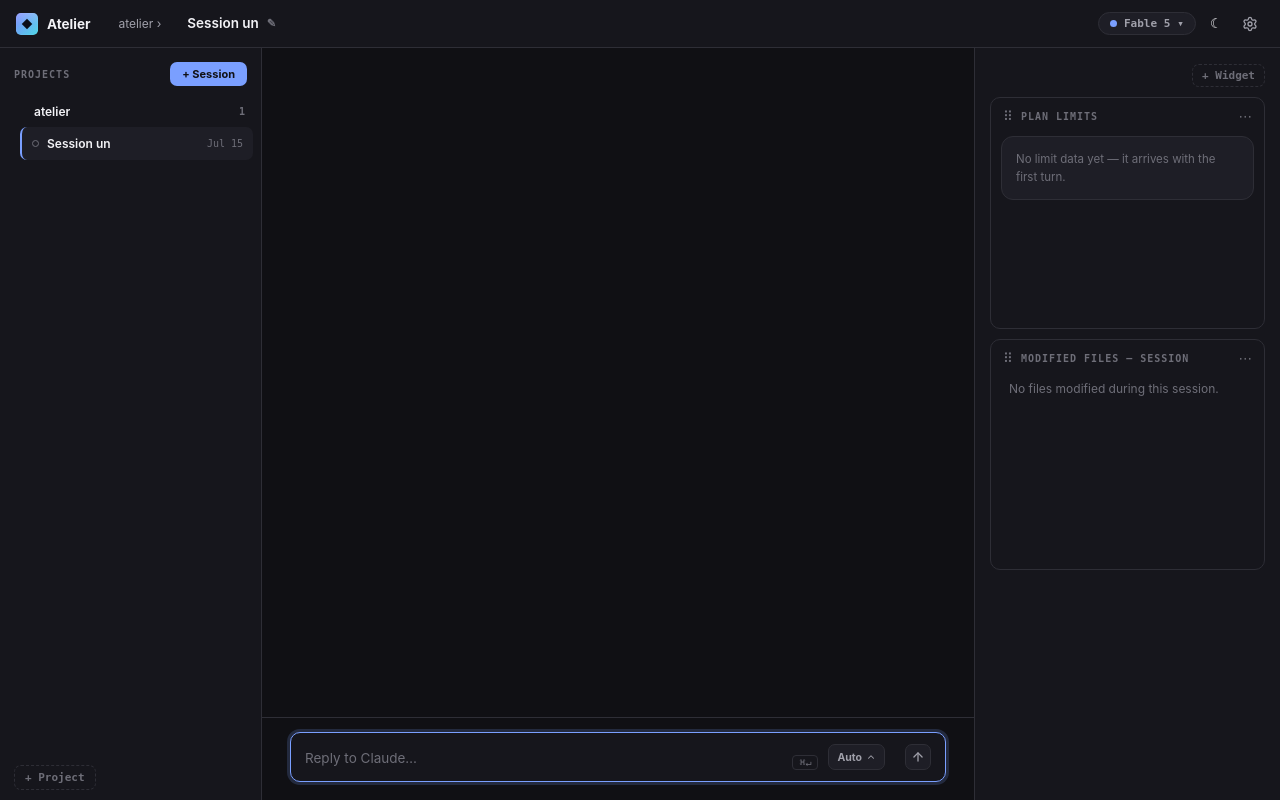
App failure surfacing › a failed rename surfaces a dismissible notice
Note: s1 is auto-opened by the launch restore
Click the button with aria-label "rename the session". click: (232, 23)
box: x1=187 y1=15 x2=276 y2=31
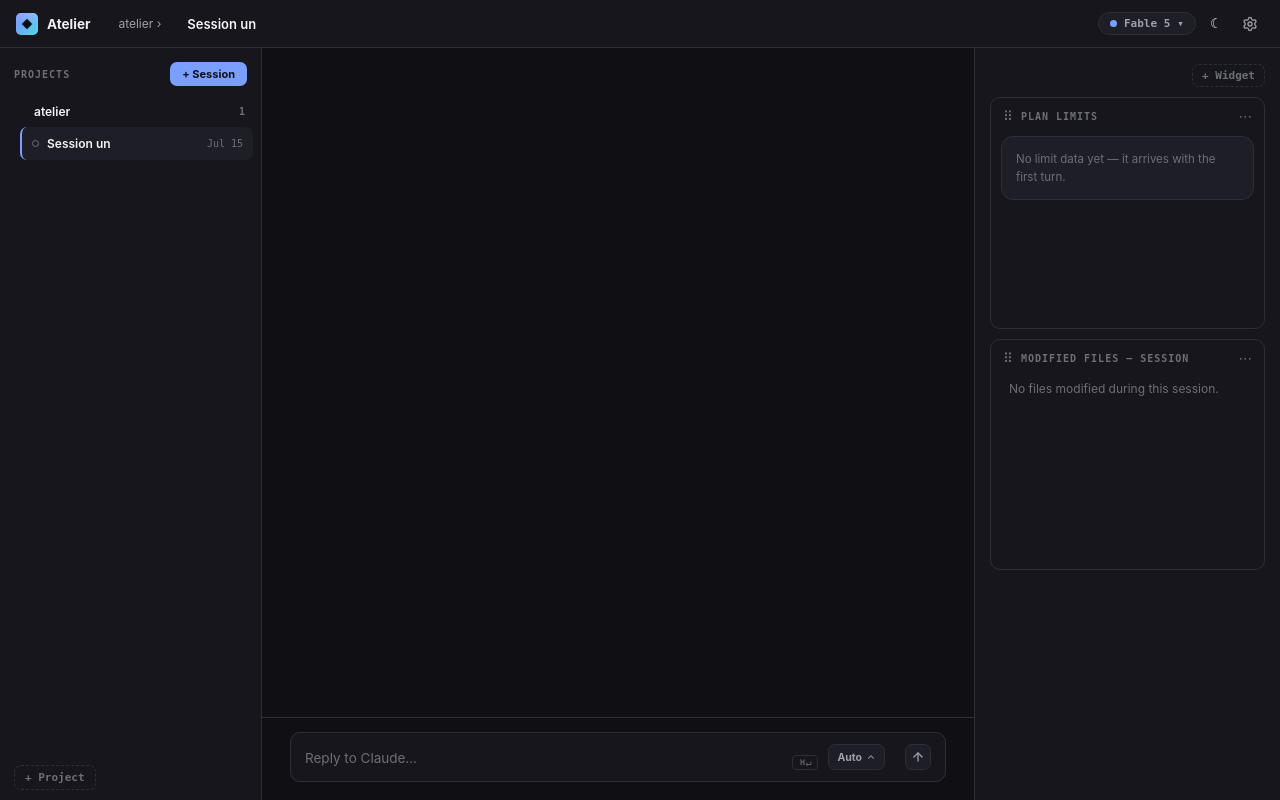
Replace the text in the field named "Rename the session" with "Nouveau nom". click: (297, 24)
box: x1=187 y1=16 x2=407 y2=32
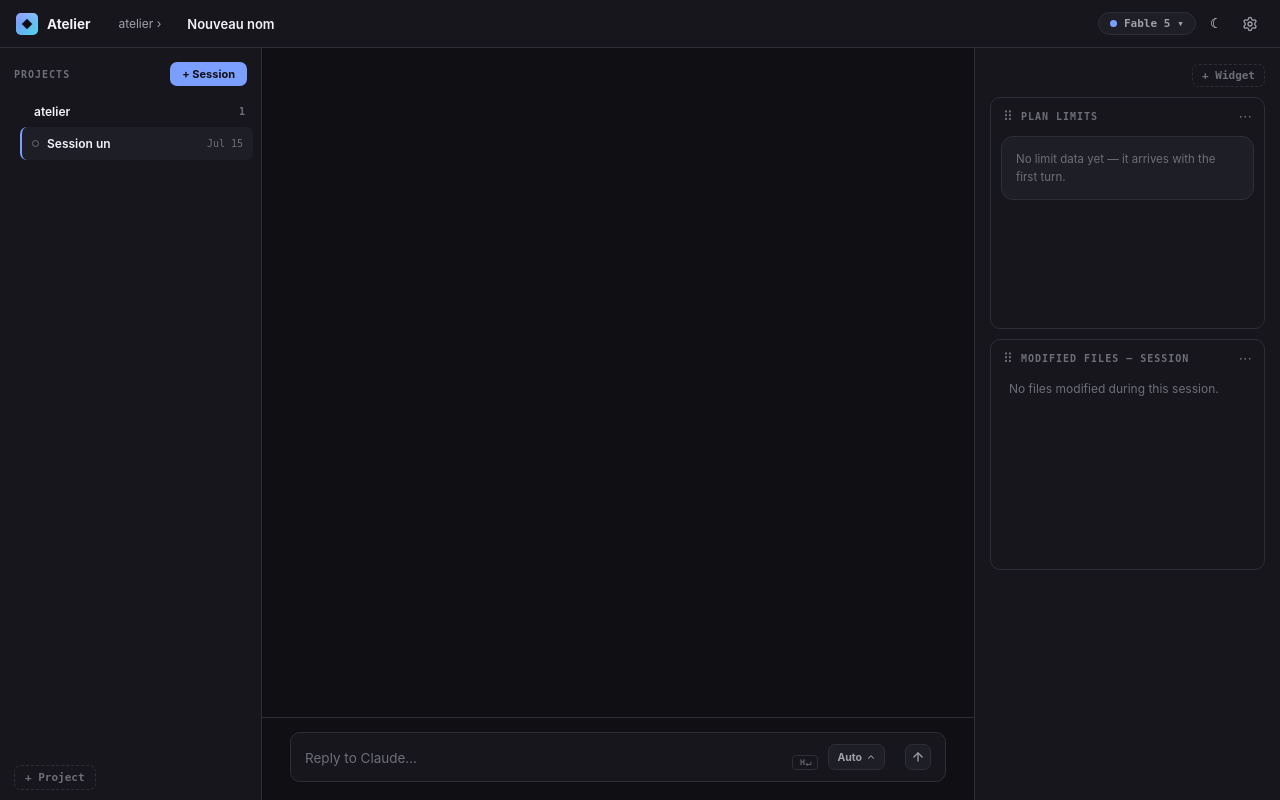
Press Enter in the field named "Rename the session", box x1=187 y1=16 x2=407 y2=32
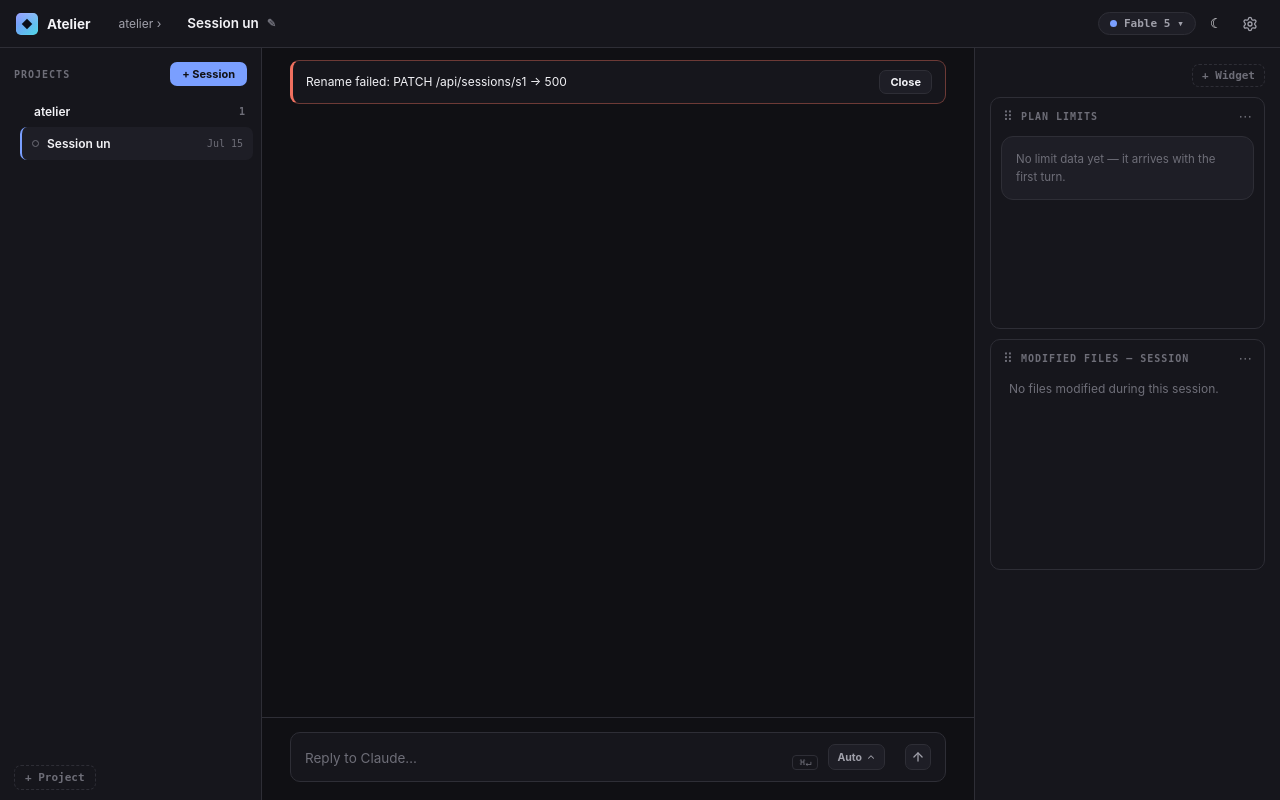
Result: the text "Rename failed: PATCH /api/sessions/s1 → 500" is shown at x1=306 y1=74 x2=567 y2=89
Click the button "Close". click: (906, 82)
box: x1=879 y1=70 x2=932 y2=94
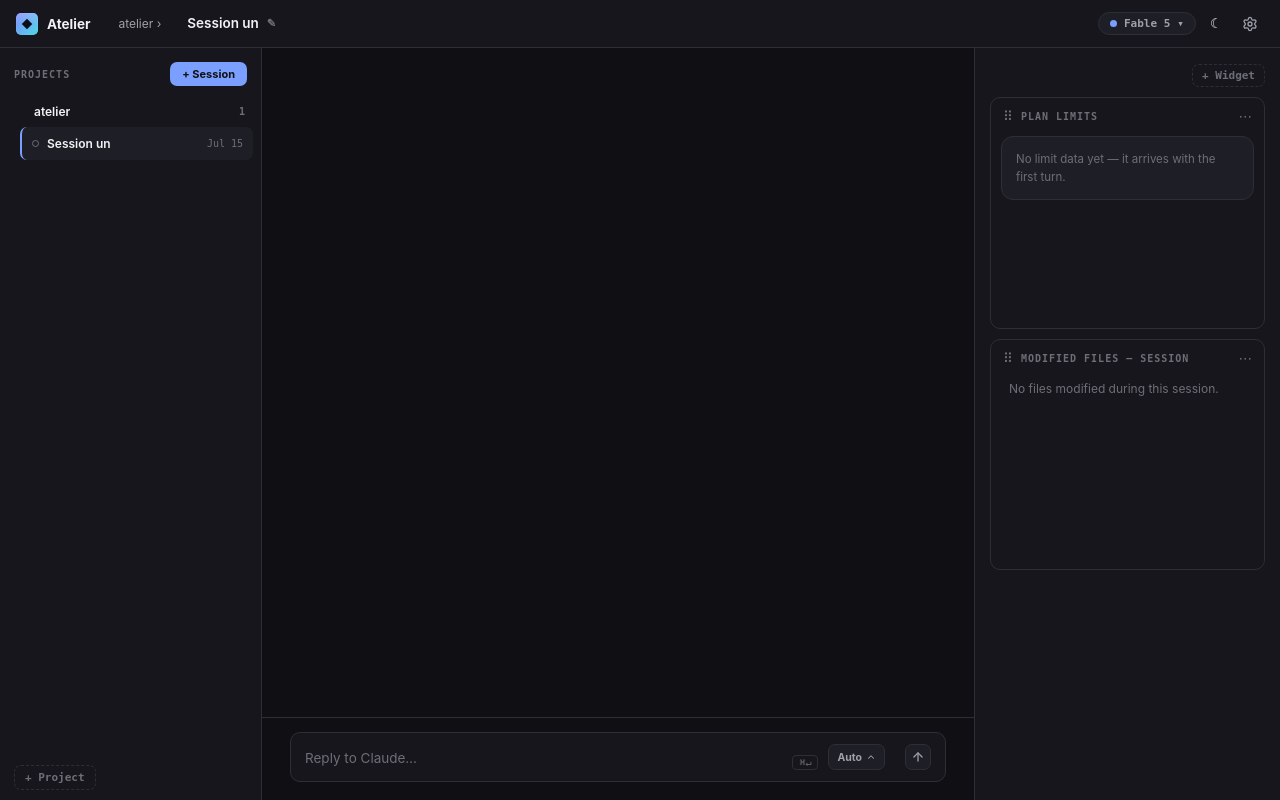
Result: the text "Rename failed" is gone
